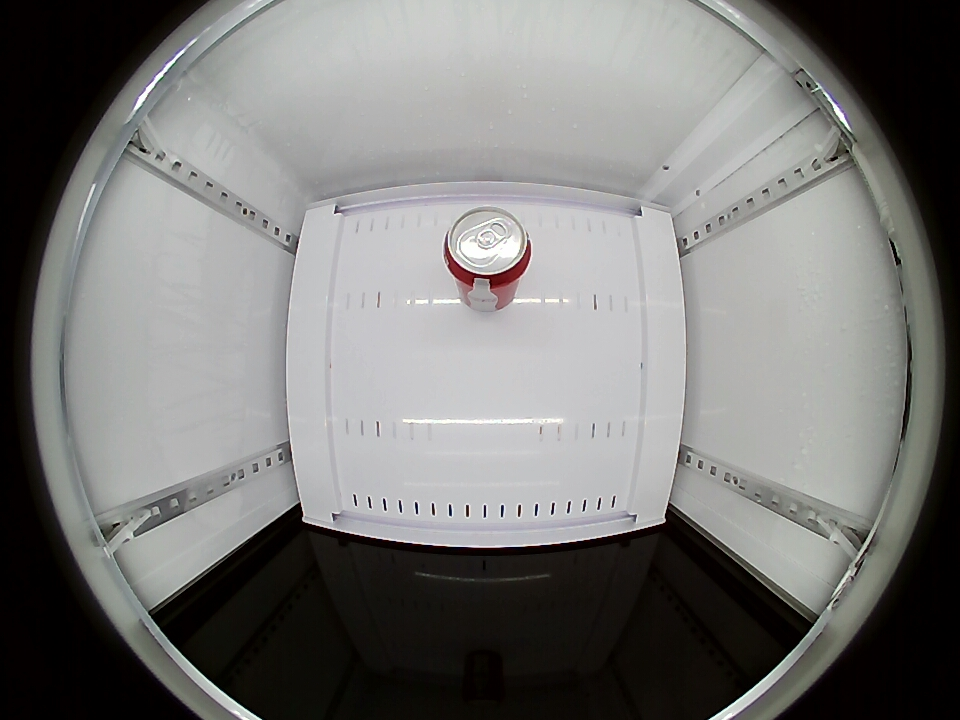kele: (443, 208, 533, 290)
